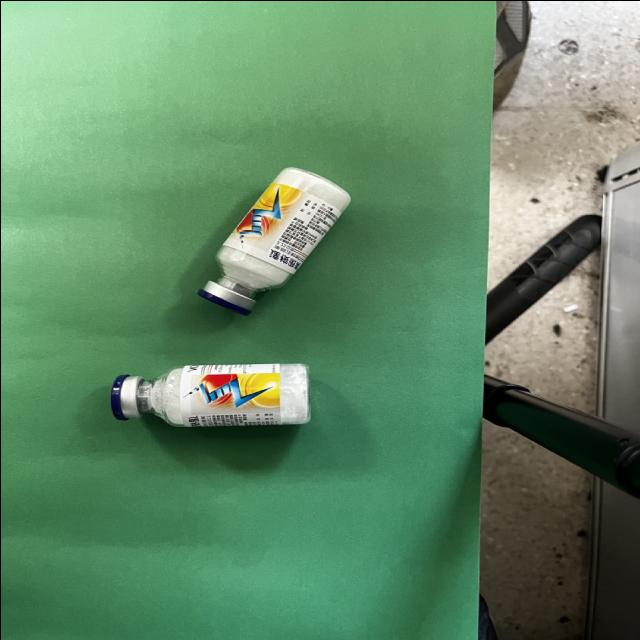Vials: (197, 166, 349, 314), (110, 363, 310, 426)
